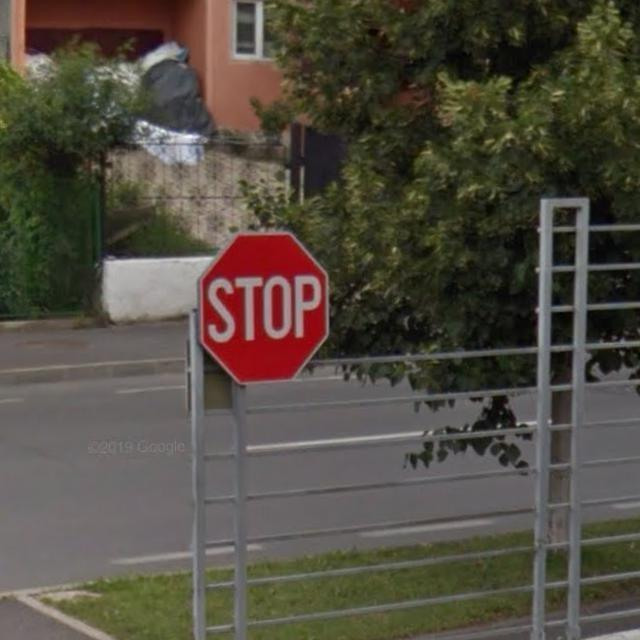prio_stop: (198, 234, 328, 386)
